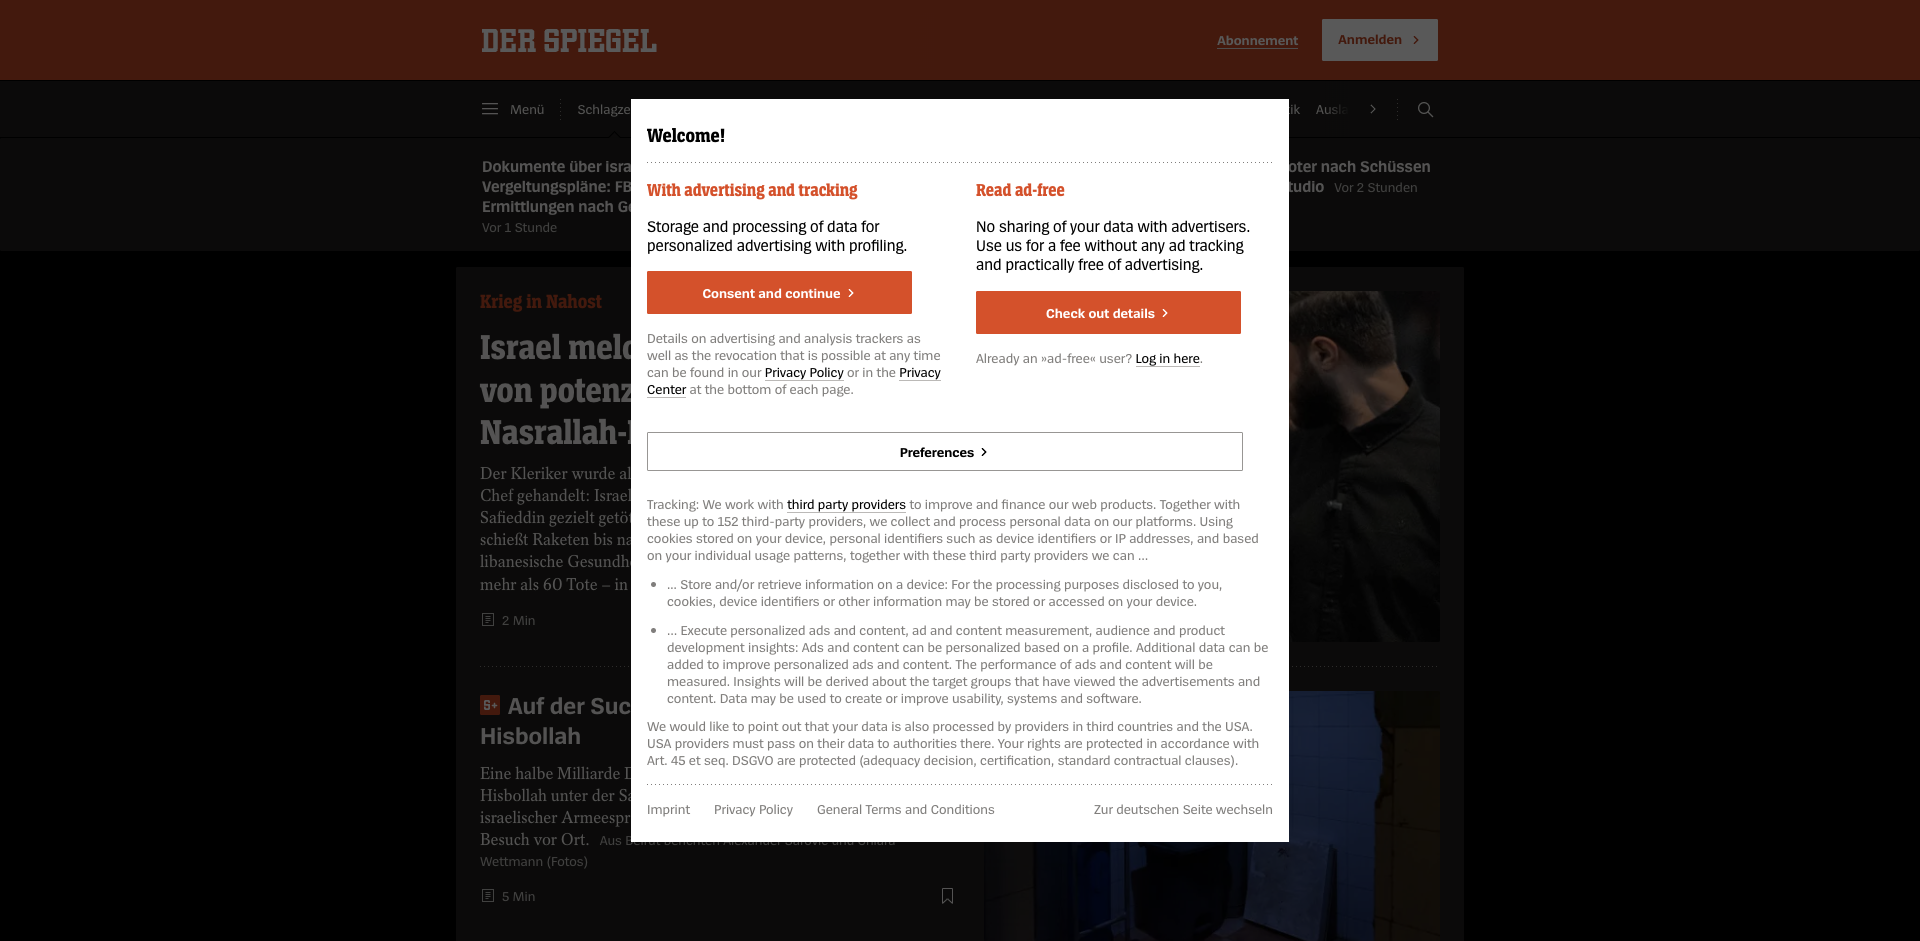button: (793, 138, 1127, 251), (462, 81, 560, 137), (670, 81, 749, 137), (1398, 89, 1454, 129), (478, 0, 502, 80), (768, 608, 792, 632), (936, 884, 960, 908)
link: (816, 291, 1440, 642), (984, 691, 1440, 941), (480, 763, 960, 872), (480, 463, 792, 596), (480, 324, 792, 451), (480, 691, 960, 751), (482, 154, 769, 235), (817, 154, 1103, 214), (1151, 154, 1438, 194), (561, 81, 668, 137), (919, 81, 1022, 137), (1575, 81, 1672, 137), (823, 81, 919, 137), (1090, 81, 1179, 137), (1322, 19, 1438, 61), (670, 81, 749, 137), (1179, 81, 1257, 137), (1497, 81, 1575, 137), (1843, 81, 1920, 137), (1372, 81, 1448, 137), (482, 28, 657, 52), (749, 81, 823, 137), (1672, 81, 1741, 137), (1022, 81, 1090, 137), (1308, 81, 1372, 137), (1217, 19, 1298, 61), (1257, 81, 1308, 137), (1741, 81, 1792, 137), (1792, 81, 1843, 137), (1448, 81, 1497, 137), (1895, 92, 1896, 93)
